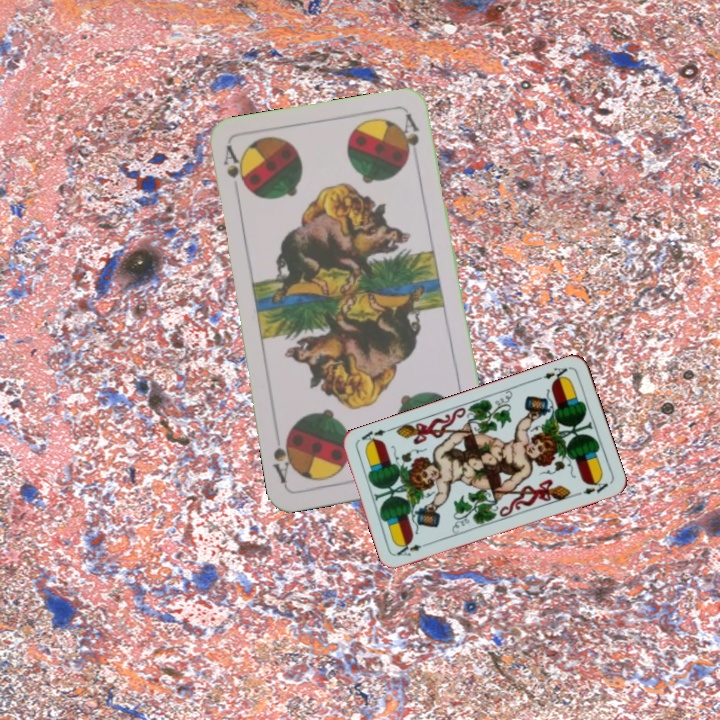EA: (532, 363, 572, 385), (393, 538, 432, 558)
SA: (219, 142, 250, 194)
